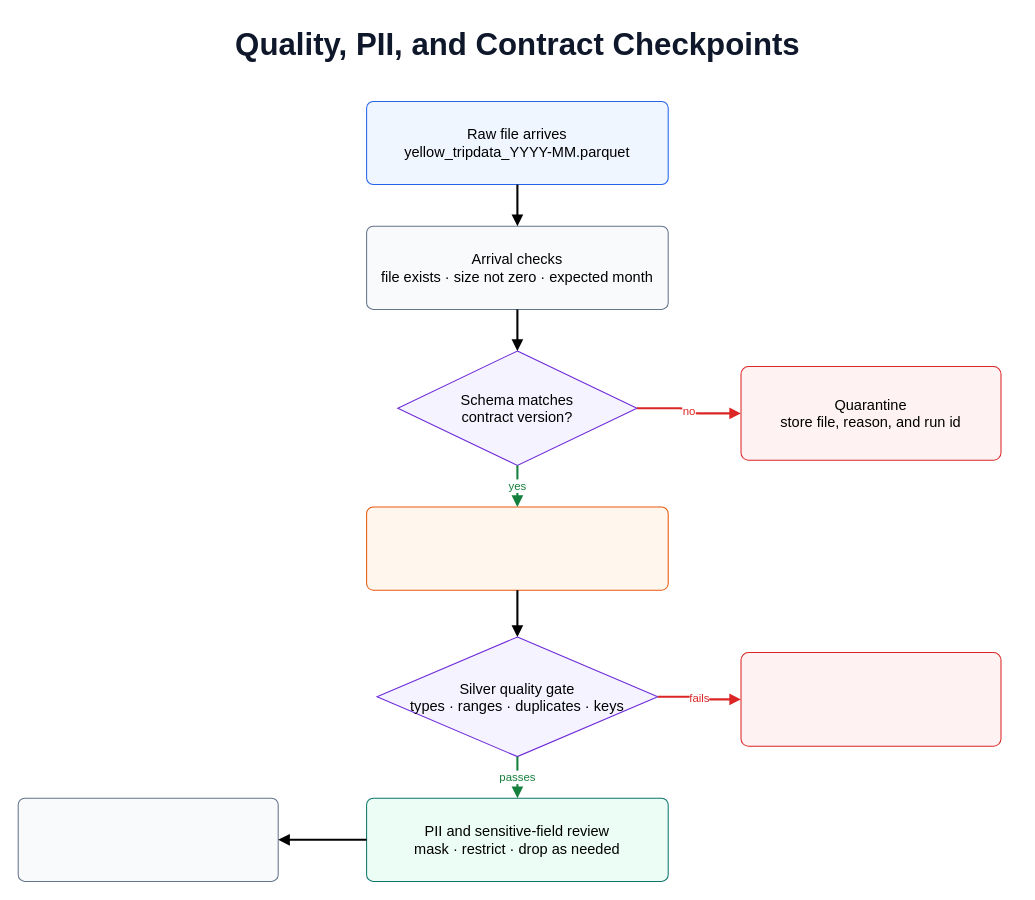
Image size: 1035x900. Some labels were removed from this diagram. The shapes that lost their labels are listed below. From the top down, each one's centre as x and y in pixels, then its label:
At point (517, 548): "Bronze store raw immutable".
At point (870, 699): "Rejected records bad rows plus reason".
At point (147, 839): "Silver clean · typed · conformed".
